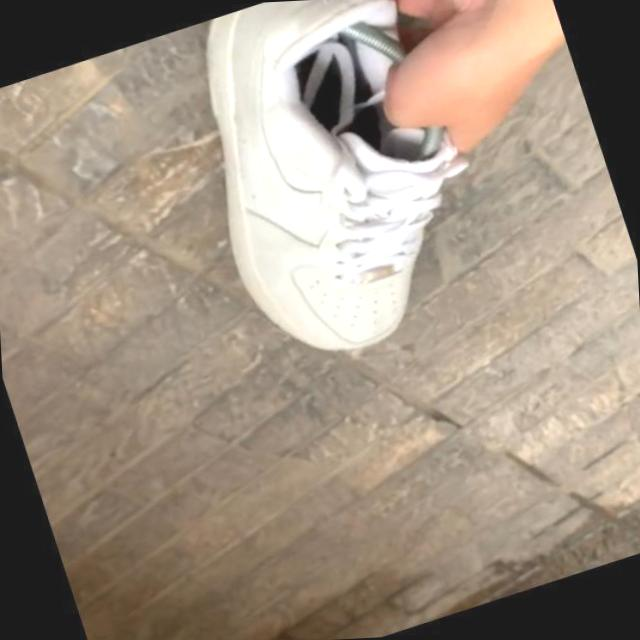nike_fake_airforce: (133, 0, 530, 395)
